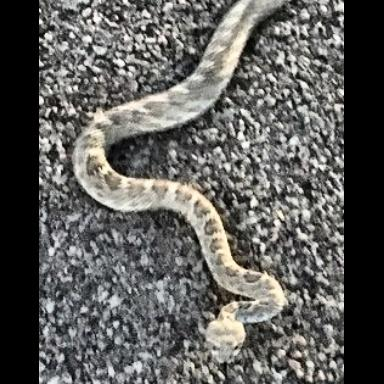snake: (62, 0, 344, 384)
